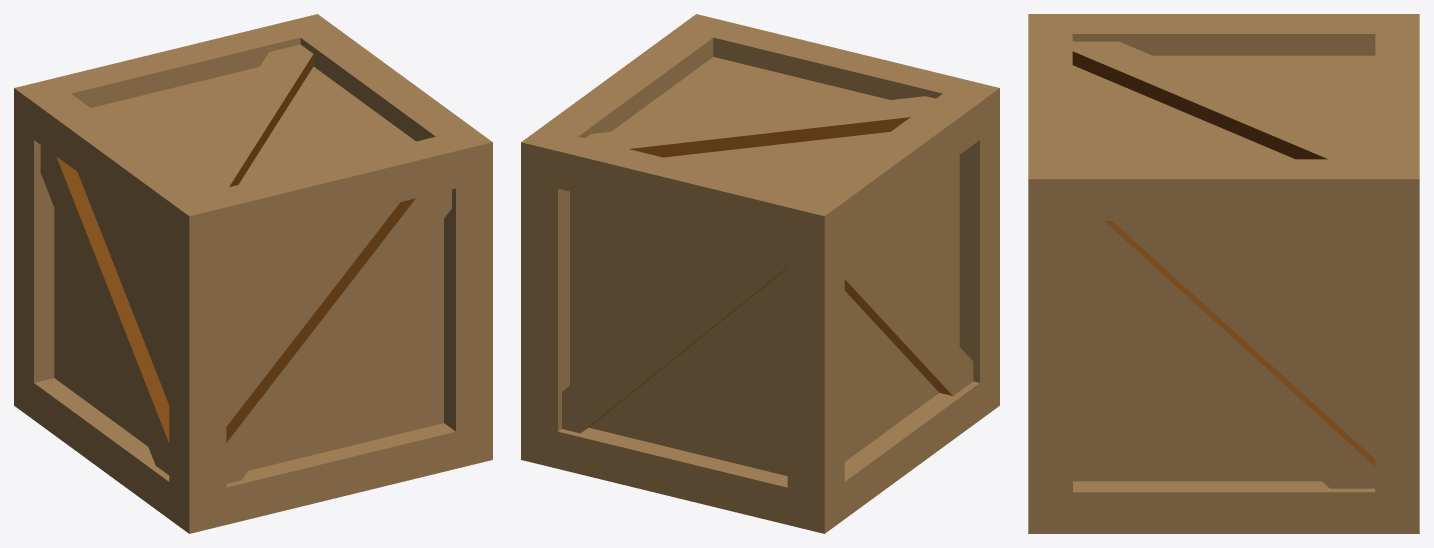
File: crate.glb
The picture shows the model from 3 angles, left to right: view 1: azimuth 30°, elevation 25°; view 2: azimuth 150°, elevation 25°; view 3: azimuth 270°, elevation 25°; orthographic projection. The views are drawn at different scales.
Visible parts, largest first — view 1: SM_Prop_Crate_01; view 2: SM_Prop_Crate_01; view 3: SM_Prop_Crate_01.
Part boxes in pixels (box(x1,y1,x2,y2)): SM_Prop_Crate_01: box(14, 14, 492, 533); SM_Prop_Crate_01: box(521, 14, 999, 533); SM_Prop_Crate_01: box(1028, 14, 1419, 533).
Bounding box in the file's own units: 0.5001 × 0.5001 × 0.5001.
